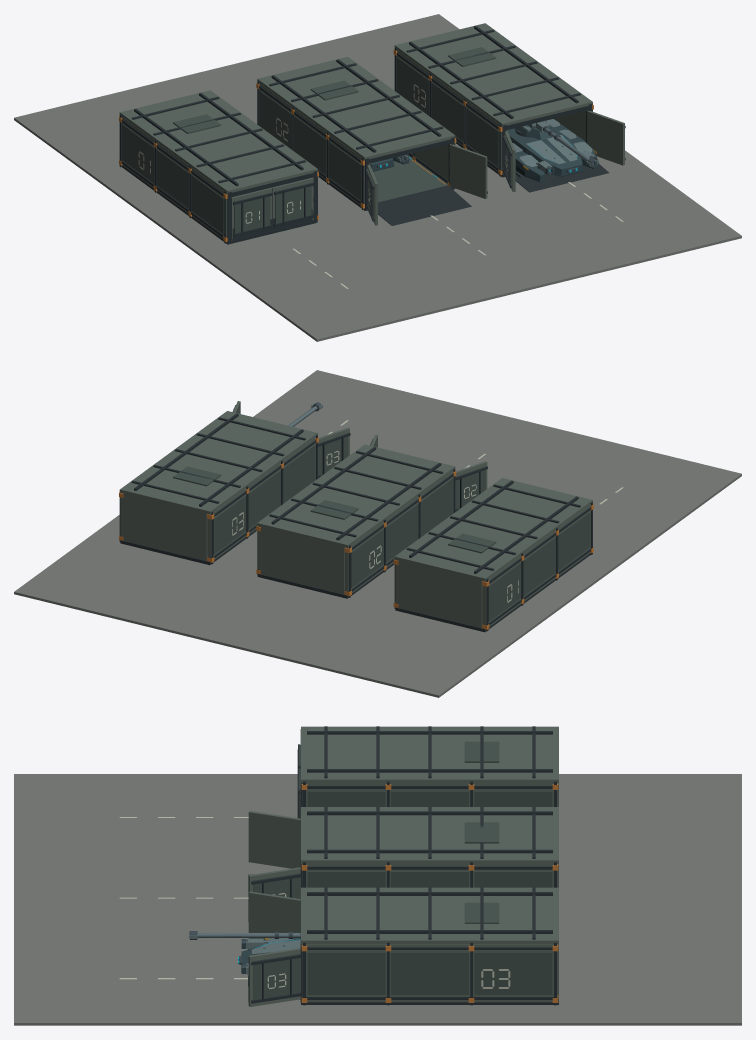
Rendered from mork_container_low_diorama.glb.
The picture shows the model from 3 angles, top to bottom: view 1: azimuth 30°, elevation 25°; view 2: azimuth 150°, elevation 25°; view 3: azimuth 270°, elevation 25°; orthographic projection. The views are drawn at different scales.
Visible parts, largest first — view 1: Geometry_ROOT.003_Container game / vertex palette, Geometry_ROOF_03_Container game / vertex palette, Geometry_ROOF_02.001_Container game / vertex palette, Geometry_ROOF_01.001_Container game / vertex palette, Geometry_SHELL_02.001_Container game / vertex palette, Geometry_SHELL_01.001_Container game / vertex palette, Geometry_SHELL_03_Container game / vertex palette, Geometry_VEHICLE_03_Container game / vertex palette, Geometry_RAMP_02.001_Container game / vertex palette, Geometry_DOOR_02_R.001_Container game / vertex palette, Geometry_DOOR_01_L.001_Container game / vertex palette, Geometry_DOOR_01_R.001_Container game / vertex palette (+4 smaller); view 2: Geometry_ROOT.003_Container game / vertex palette, Geometry_SHELL_01.001_Container game / vertex palette, Geometry_ROOF_02.001_Container game / vertex palette, Geometry_ROOF_01.001_Container game / vertex palette, Geometry_ROOF_03_Container game / vertex palette, Geometry_SHELL_02.001_Container game / vertex palette, Geometry_SHELL_03_Container game / vertex palette, Geometry_DOOR_02_L.001_Container game / vertex palette, Geometry_DOOR_03_L_Container game / vertex palette; view 3: Geometry_ROOT.003_Container game / vertex palette, Geometry_SHELL_03_Container game / vertex palette, Geometry_ROOF_02.001_Container game / vertex palette, Geometry_ROOF_01.001_Container game / vertex palette, Geometry_ROOF_03_Container game / vertex palette, Geometry_SHELL_02.001_Container game / vertex palette, Geometry_SHELL_01.001_Container game / vertex palette, Geometry_DOOR_03_R_Container game / vertex palette, Geometry_DOOR_02_L.001_Container game / vertex palette, Geometry_DOOR_03_L_Container game / vertex palette, Geometry_VEHICLE_03_Container game / vertex palette, Geometry_DOOR_02_R.001_Container game / vertex palette.
Part boxes in pixels (<box>): Geometry_ROOT.003_Container game / vertex palette: <box>14,14,741,341</box>; Geometry_ROOF_03_Container game / vertex palette: <box>394,23,592,126</box>; Geometry_ROOF_02.001_Container game / vertex palette: <box>257,56,455,160</box>; Geometry_ROOF_01.001_Container game / vertex palette: <box>119,90,317,193</box>; Geometry_SHELL_02.001_Container game / vertex palette: <box>256,81,456,210</box>; Geometry_SHELL_01.001_Container game / vertex palette: <box>119,114,318,244</box>; Geometry_SHELL_03_Container game / vertex palette: <box>393,47,593,177</box>; Geometry_VEHICLE_03_Container game / vertex palette: <box>507,119,598,182</box>; Geometry_RAMP_02.001_Container game / vertex palette: <box>378,187,471,225</box>; Geometry_DOOR_02_R.001_Container game / vertex palette: <box>449,144,487,198</box>; Geometry_DOOR_01_L.001_Container game / vertex palette: <box>231,187,272,239</box>; Geometry_DOOR_01_R.001_Container game / vertex palette: <box>272,178,313,226</box>; Geometry_ROOT.003_Container game / vertex palette: <box>14,370,741,697</box>; Geometry_SHELL_01.001_Container game / vertex palette: <box>393,502,593,632</box>; Geometry_ROOF_02.001_Container game / vertex palette: <box>257,444,455,548</box>; Geometry_ROOF_01.001_Container game / vertex palette: <box>394,478,592,581</box>; Geometry_ROOF_03_Container game / vertex palette: <box>119,411,317,514</box>; Geometry_SHELL_02.001_Container game / vertex palette: <box>256,468,456,598</box>; Geometry_SHELL_03_Container game / vertex palette: <box>119,435,318,565</box>; Geometry_DOOR_02_L.001_Container game / vertex palette: <box>455,461,487,511</box>; Geometry_DOOR_03_L_Container game / vertex palette: <box>318,427,350,478</box>; Geometry_ROOT.003_Container game / vertex palette: <box>14,774,741,1025</box>; Geometry_SHELL_03_Container game / vertex palette: <box>300,890,558,1005</box>; Geometry_ROOF_02.001_Container game / vertex palette: <box>301,806,558,863</box>; Geometry_ROOF_01.001_Container game / vertex palette: <box>301,726,558,783</box>; Geometry_ROOF_03_Container game / vertex palette: <box>301,887,558,944</box>; Geometry_SHELL_02.001_Container game / vertex palette: <box>300,810,558,889</box>; Geometry_SHELL_01.001_Container game / vertex palette: <box>300,729,558,809</box>; Geometry_DOOR_03_R_Container game / vertex palette: <box>248,948,301,1006</box>; Geometry_DOOR_02_L.001_Container game / vertex palette: <box>248,811,300,868</box>; Geometry_DOOR_03_L_Container game / vertex palette: <box>248,891,300,940</box>; Geometry_VEHICLE_03_Container game / vertex palette: <box>189,931,300,986</box>; Geometry_DOOR_02_R.001_Container game / vertex palette: <box>248,867,301,898</box>.
Size of the model in its own units: 34 by 4.46 by 42.
